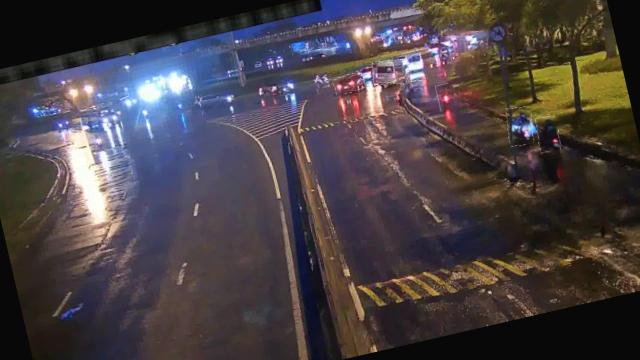Bike: (503, 105, 537, 148), (534, 115, 562, 154), (435, 84, 454, 112)
Bus: (370, 56, 409, 88), (401, 47, 434, 73)
Car: (332, 71, 366, 96)
